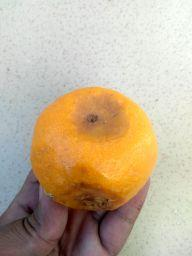Unripe: (29, 87, 161, 211)
